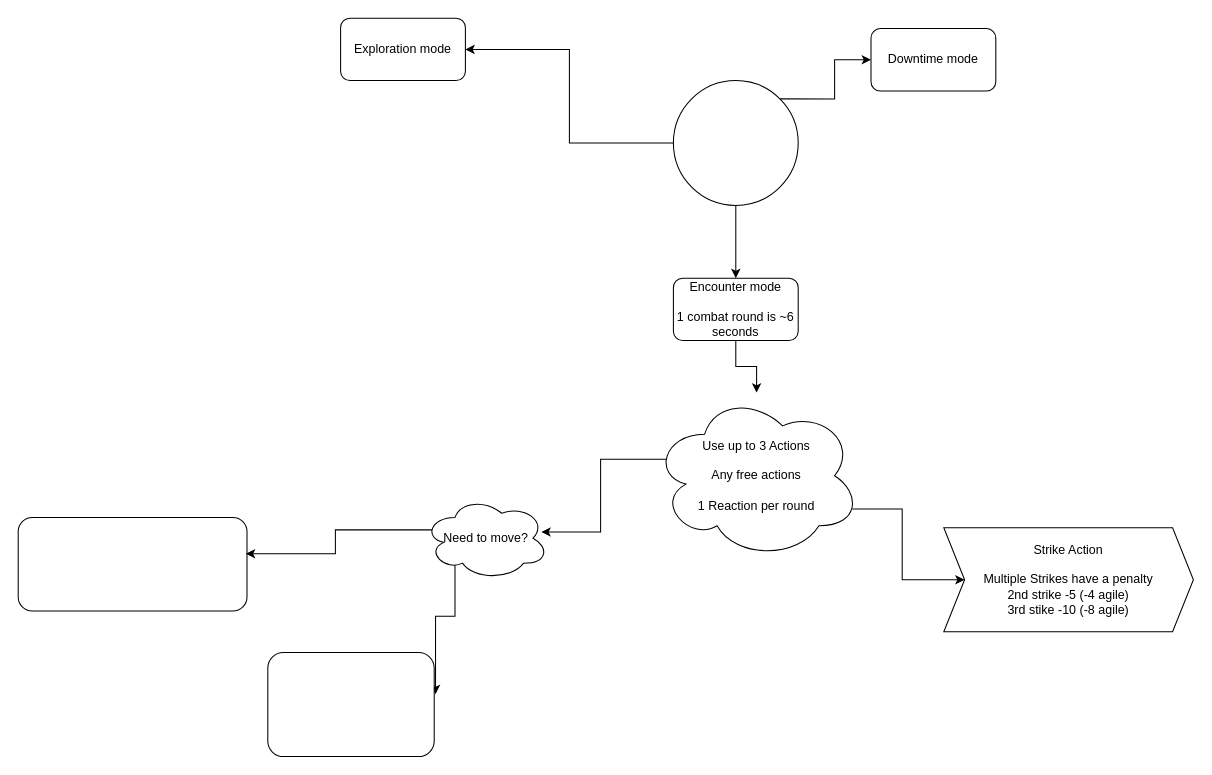
Image size: 1212x775. Some labels were removed from this diagram. Here are the shapes that lost their labels. From the top down, the centre of each, then its label:
At point (735, 142): "What can my character do?".
At point (132, 563): "Stride Action Move up to your speed in ft Can trigger reactions/free actions".
At point (350, 704): "Step Action Move 5 feet Does not trigger reactions".
